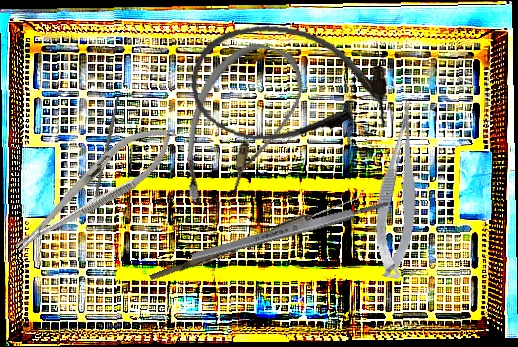Cannula: (184, 16, 395, 155), (168, 31, 312, 223)
Micro Scissor: (362, 98, 439, 281)
Needle Holder: (1, 110, 188, 267)
Scalpel Handle: (190, 198, 390, 263), (90, 96, 122, 209)
Surgical Spoon: (149, 189, 367, 286)
